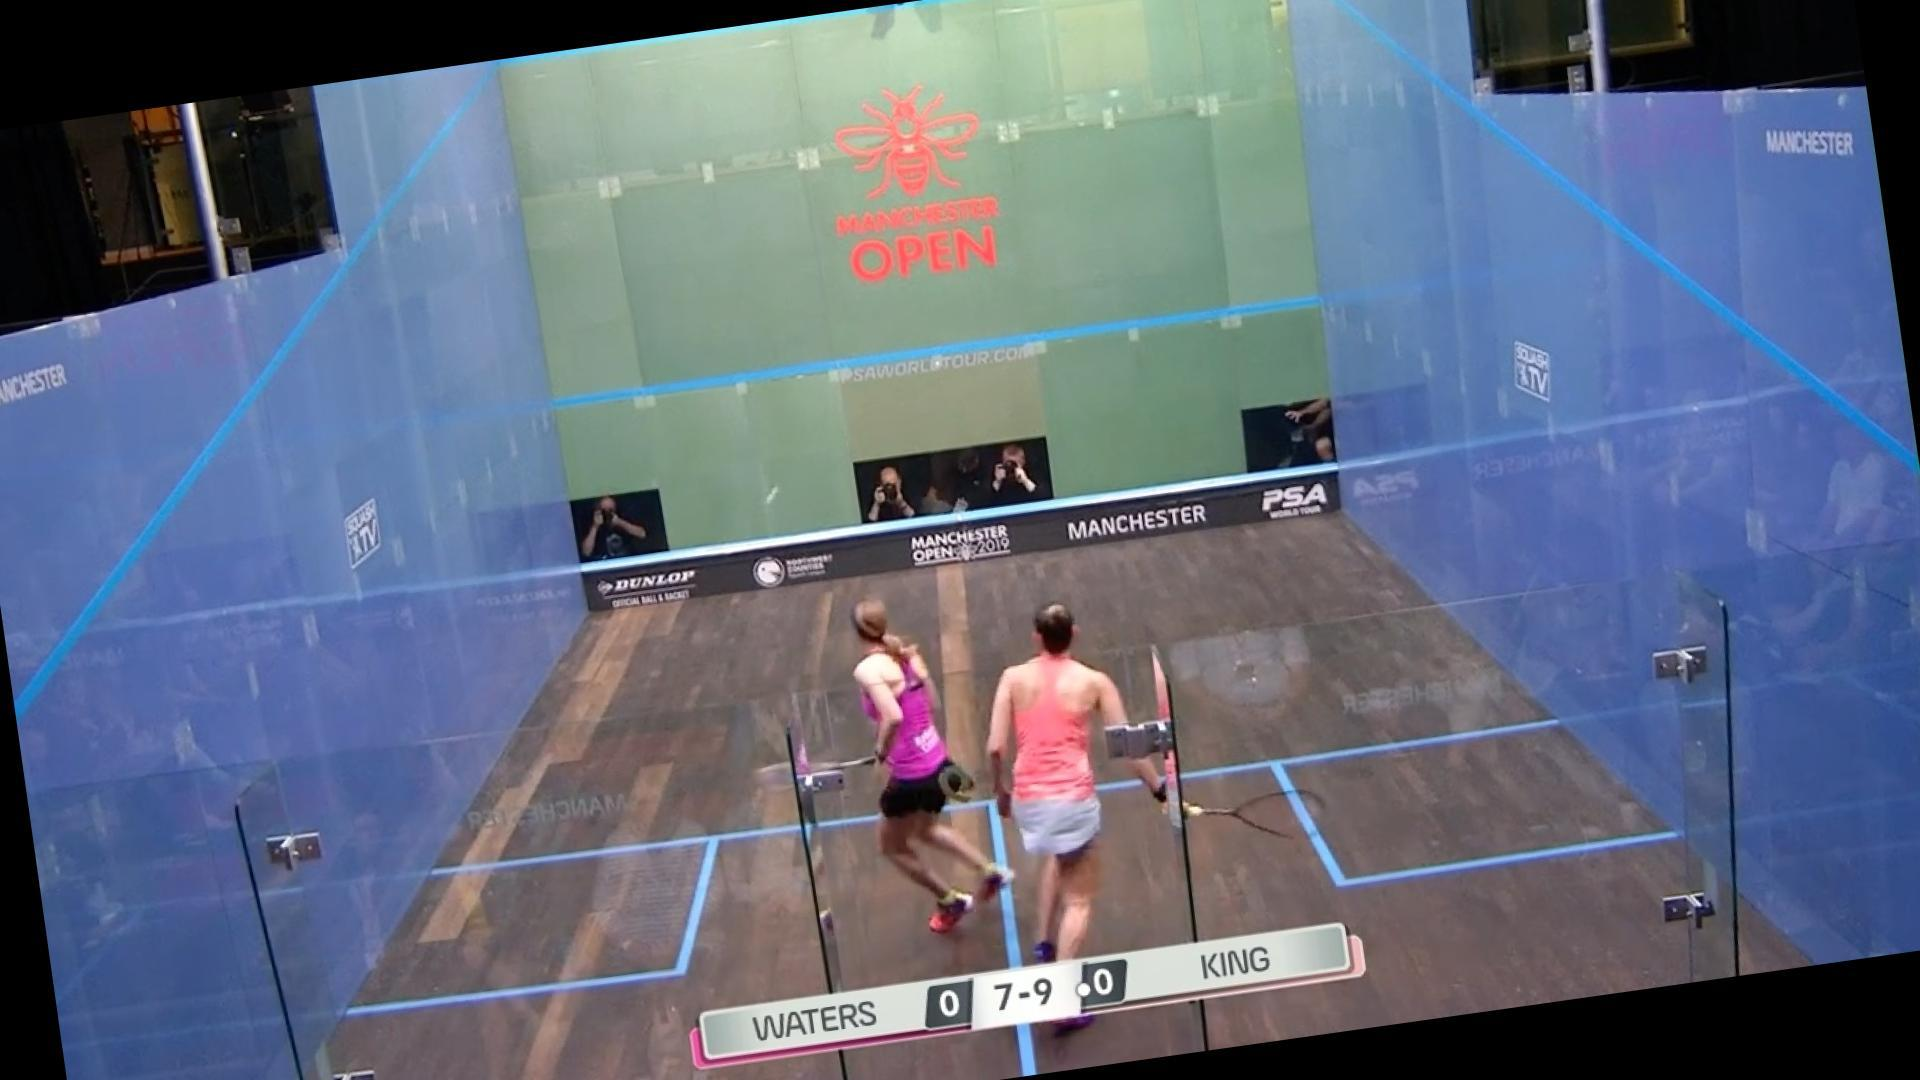Squash-Ball: (754, 473, 798, 520)
